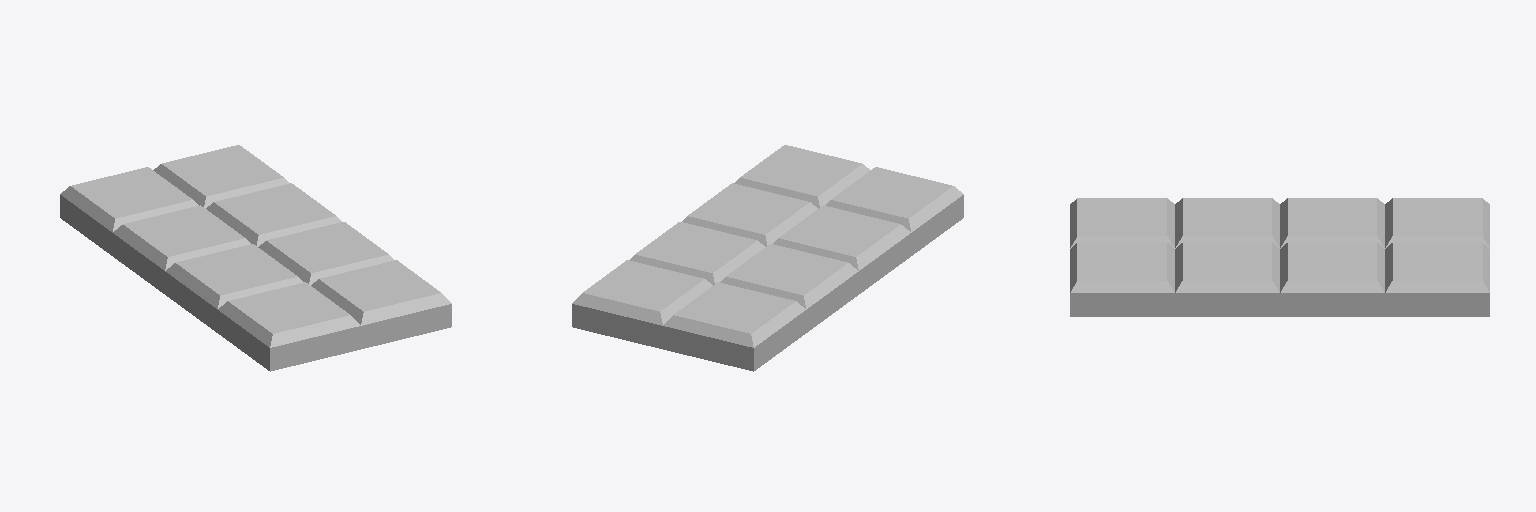
File: chocolatebar.obj
3 renders of one model, left to right at view 1: azimuth 30°, elevation 25°; view 2: azimuth 150°, elevation 25°; view 3: azimuth 270°, elevation 25°, orthographic.
Parts seen in each view (by area): view 1: Cube; view 2: Cube; view 3: Cube.
Boxes of the visible parts, <box> form: Cube: <box>60,145,451,371</box>; Cube: <box>572,145,963,371</box>; Cube: <box>1070,198,1489,316</box>.
Bounding box in the file's own units: 4 × 0.7006 × 8.